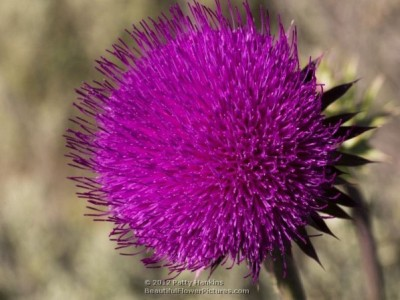thistle: (70, 1, 364, 267)
